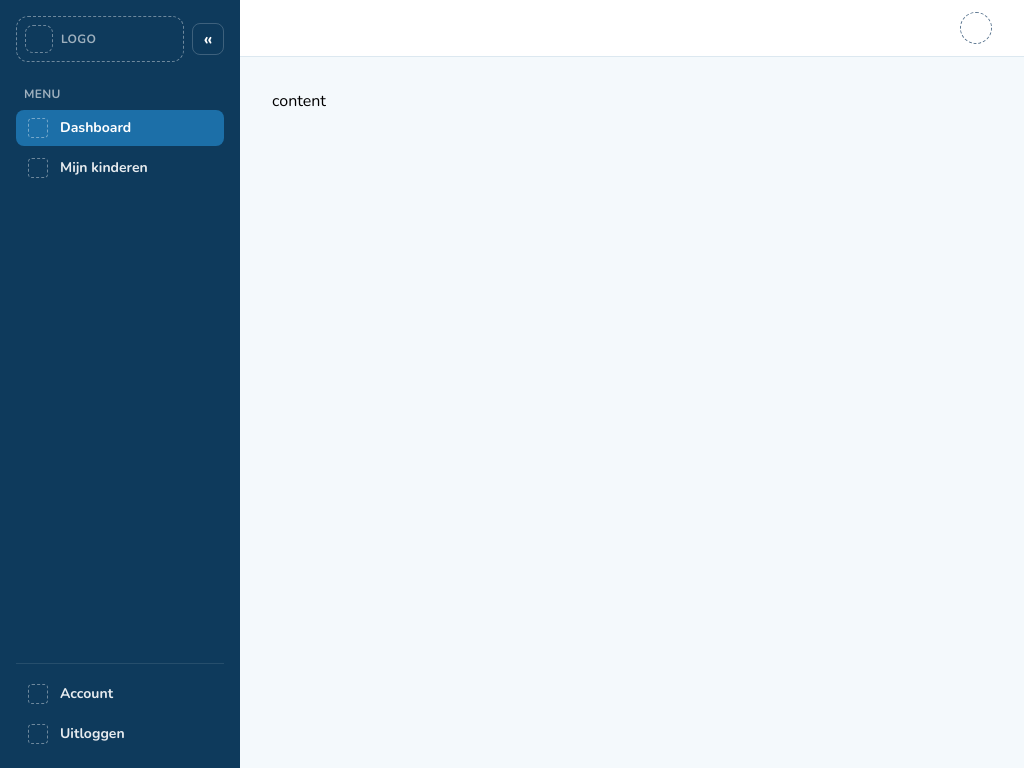
Test: AppShell › clicking the expand icon brings the sidebar back to its collapse-labeled state
Click the button named "Menu inklappen".
click(208, 39)  # box [192,23,224,55]
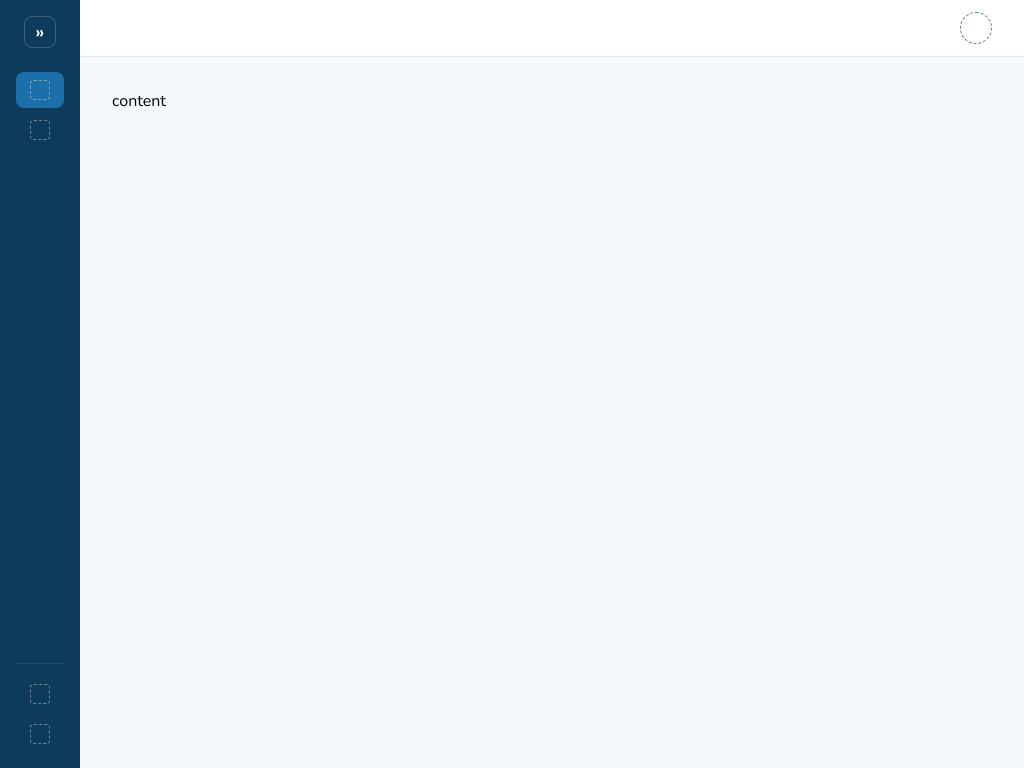
Click the button named "Menu uitklappen".
click(40, 32)  # box [24,16,56,48]
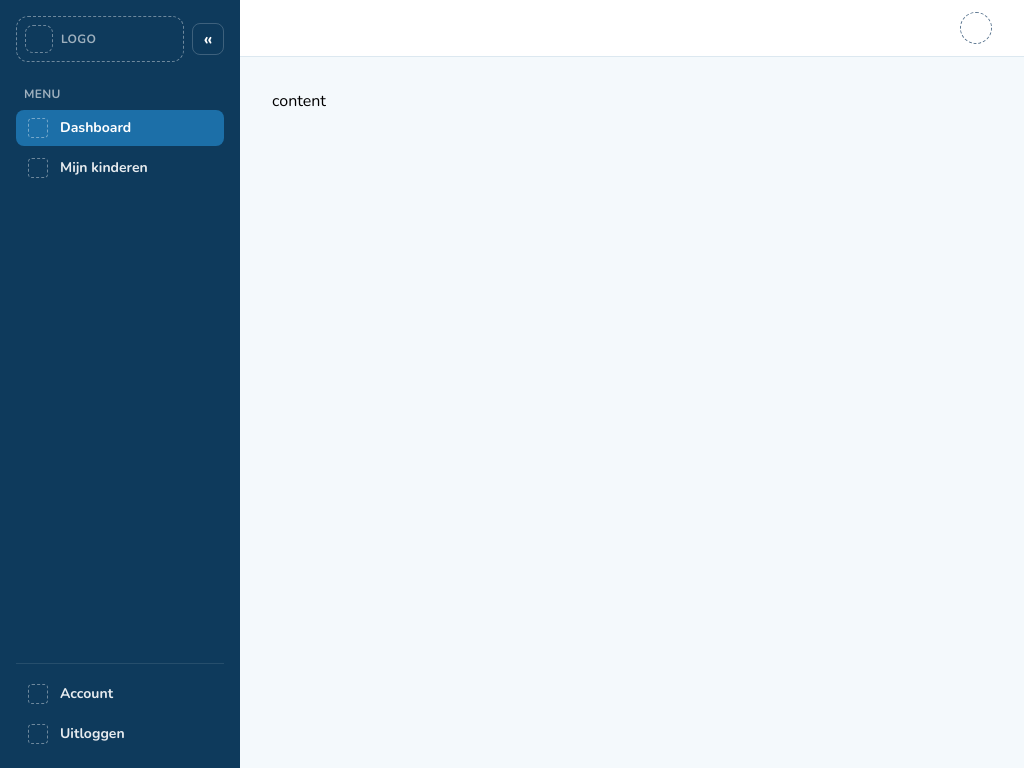
Now the button named "Menu inklappen" reads "«", box [192,23,224,55]
